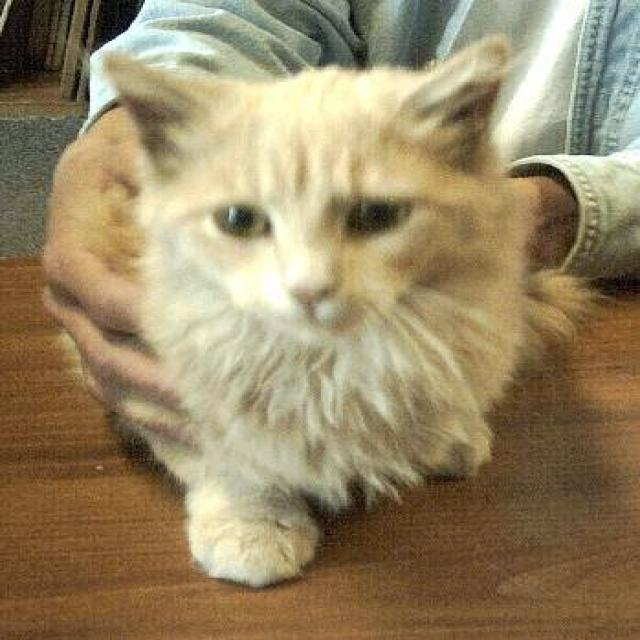cat: (52, 32, 612, 588)
